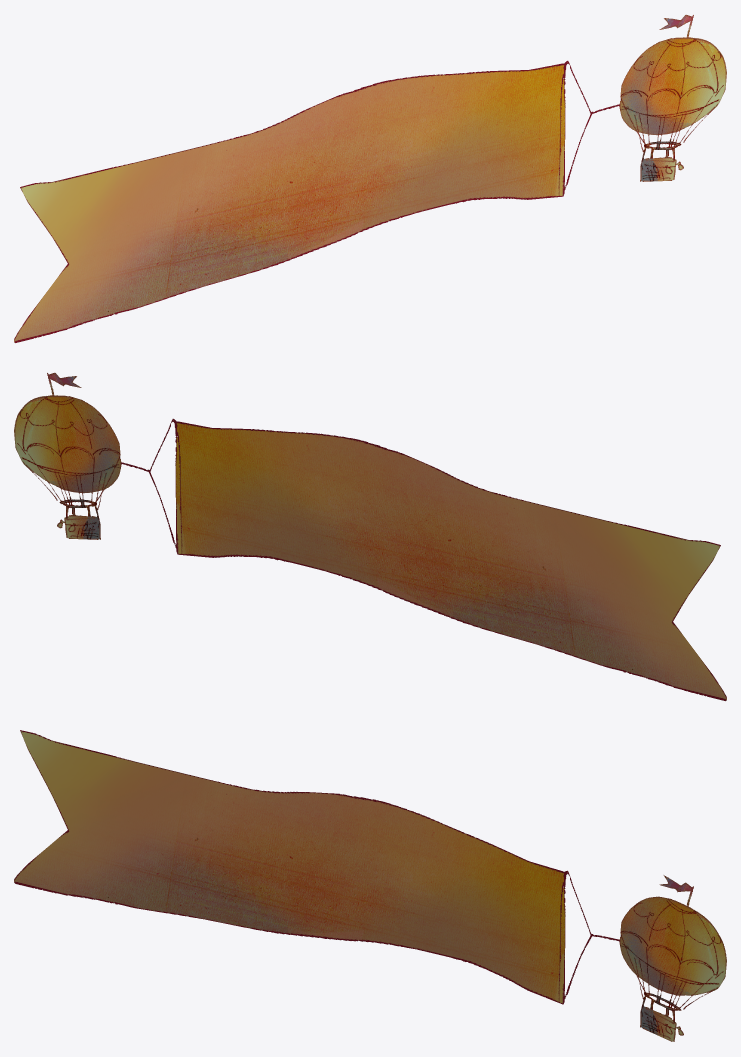
File: balloon.fbx
3 views of the same model, one above another, from view 1: azimuth 30°, elevation 25°; view 2: azimuth 150°, elevation 25°; view 3: azimuth 330°, elevation 25° (orthographic).
Parts seen in each view (by area): view 1: 熱氣球2; view 2: 熱氣球2; view 3: 熱氣球2.
Part boxes in pixels (bbox=[...]): 熱氣球2: bbox=[14, 14, 726, 343]; 熱氣球2: bbox=[14, 372, 726, 701]; 熱氣球2: bbox=[14, 730, 726, 1041].
Size of the model in its own units: 185 by 42.72 by 5.09e-06.
Materials: 1 (1 with a texture image).
